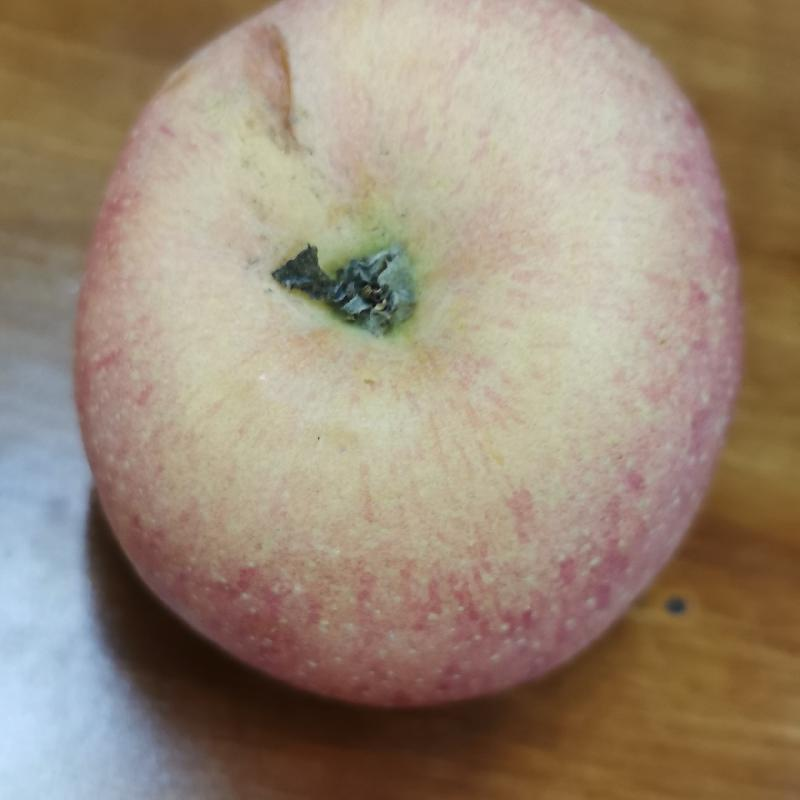apples: (178, 95, 624, 529)
